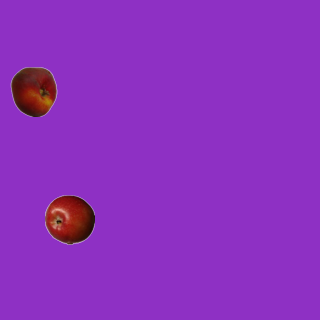Apple Braeburn: (44, 194, 94, 244)
Nectarine Flat: (8, 66, 58, 116)
